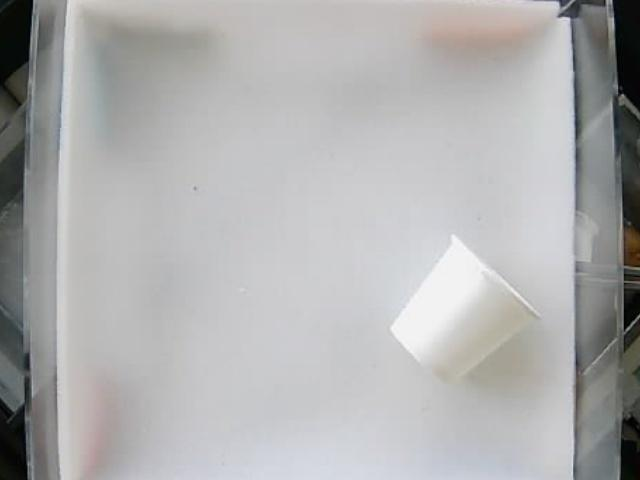Cup: (389, 231, 541, 383)
